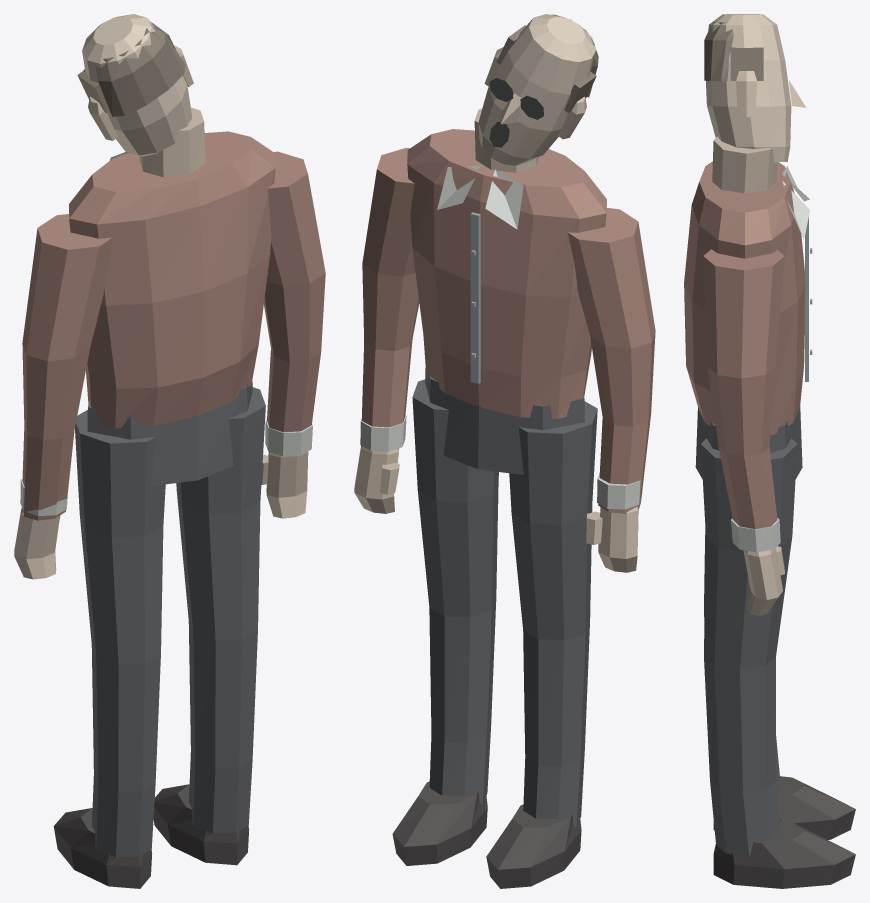
File: 04_crooked_passenger.gltf
3 views of the same model, side by side, from view 1: azimuth 30°, elevation 25°; view 2: azimuth 150°, elevation 25°; view 3: azimuth 270°, elevation 25° (orthographic). The views are drawn at different scales.
Visible parts, largest first — view 1: shirt_torso_5, L_trouser_0, R_trouser_2, left_sleeve_6, right_sleeve_10, pelvis_4, head_15, hair_back_24, leather_shoe_1, leather_shoe_3, hand_12, hand_8 (+2 smaller); view 2: shirt_torso_5, L_trouser_0, R_trouser_2, left_sleeve_6, right_sleeve_10, head_15, pelvis_4, leather_shoe_1, leather_shoe_3, hand_8, hand_12, shirt_placket_20 (+5 smaller); view 3: R_trouser_2, right_sleeve_10, shirt_torso_5, head_15, leather_shoe_3, leather_shoe_1, neck_14, hand_12, pelvis_4, hair_back_24, cuff_11, temple_hair_26 (+3 smaller).
Boxes of the visible parts, x1=… form: shirt_torso_5: x1=69, y1=131, x2=275, y2=428; L_trouser_0: x1=75, y1=410, x2=165, y2=857; R_trouser_2: x1=176, y1=387, x2=265, y2=833; left_sleeve_6: x1=21, y1=214, x2=112, y2=520; right_sleeve_10: x1=264, y1=151, x2=325, y2=432; pelvis_4: x1=87, y1=381, x2=252, y2=486; head_15: x1=82, y1=14, x2=192, y2=156; hair_back_24: x1=94, y1=26, x2=185, y2=116; leather_shoe_1: x1=53, y1=808, x2=152, y2=888; leather_shoe_3: x1=153, y1=784, x2=248, y2=865; hand_12: x1=266, y1=451, x2=308, y2=518; hand_8: x1=14, y1=508, x2=59, y2=579; shirt_torso_5: x1=407, y1=129, x2=606, y2=418; L_trouser_0: x1=509, y1=401, x2=597, y2=827; R_trouser_2: x1=412, y1=379, x2=498, y2=804; left_sleeve_6: x1=567, y1=208, x2=655, y2=513; right_sleeve_10: x1=361, y1=148, x2=419, y2=427; head_15: x1=478, y1=14, x2=596, y2=165; pelvis_4: x1=425, y1=368, x2=584, y2=474; leather_shoe_1: x1=486, y1=804, x2=581, y2=888; leather_shoe_3: x1=392, y1=781, x2=487, y2=865; hand_8: x1=598, y1=507, x2=638, y2=572; hand_12: x1=354, y1=445, x2=399, y2=513; shirt_placket_20: x1=470, y1=212, x2=480, y2=383; R_trouser_2: x1=701, y1=438, x2=797, y2=856; right_sleeve_10: x1=703, y1=249, x2=784, y2=529; shirt_torso_5: x1=684, y1=161, x2=805, y2=434; head_15: x1=706, y1=14, x2=791, y2=162; leather_shoe_3: x1=713, y1=821, x2=855, y2=888; leather_shoe_1: x1=713, y1=776, x2=855, y2=839; neck_14: x1=712, y1=136, x2=777, y2=193; hand_12: x1=743, y1=548, x2=783, y2=615; pelvis_4: x1=695, y1=405, x2=802, y2=479; hair_back_24: x1=704, y1=22, x2=733, y2=81; cuff_11: x1=731, y1=518, x2=780, y2=552; temple_hair_26: x1=730, y1=47, x2=763, y2=80.
Size of the model in its own units: 0.64 by 1.77 by 0.338.
